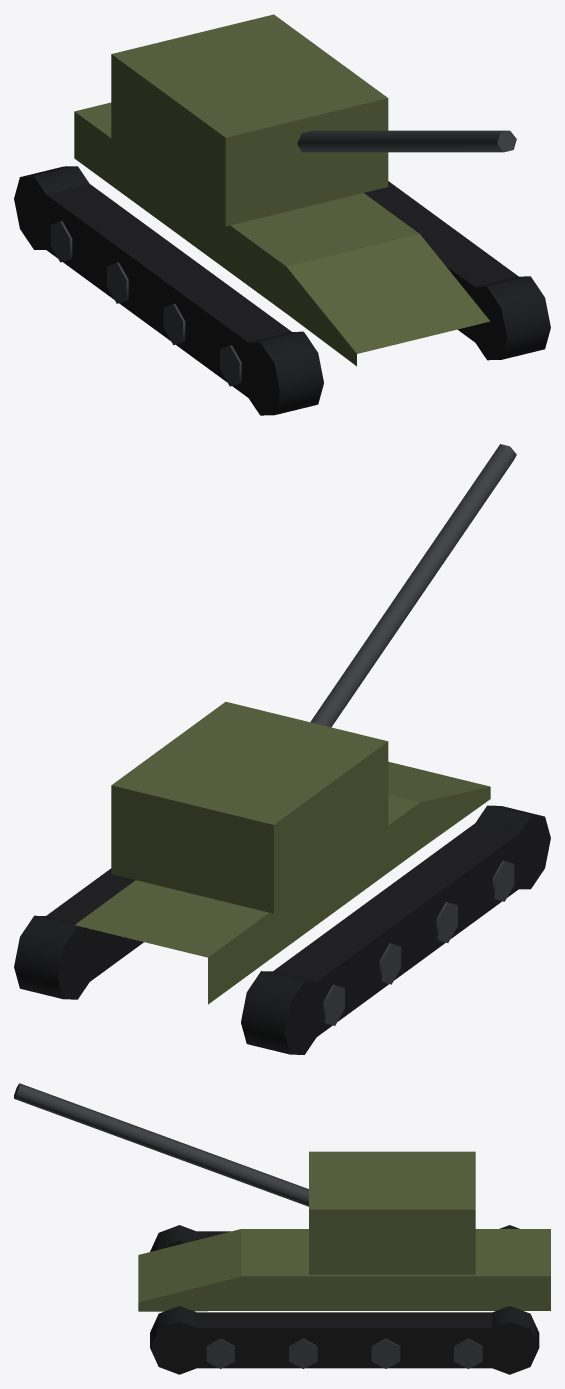
File: veh_ground_sp_artillery_a06.glb
3 views of the same model, one above another, from view 1: azimuth 30°, elevation 25°; view 2: azimuth 150°, elevation 25°; view 3: azimuth 270°, elevation 25° (orthographic). The views are drawn at different scales.
Parts seen in each view (by area): view 1: turret, body, track_r, track_l; view 2: turret, track_r, body, track_l; view 3: turret, body, track_l, track_r.
Part boxes in pixels (bbox=[...]): turret: bbox=[111, 14, 516, 226]; body: bbox=[74, 102, 490, 366]; track_r: bbox=[14, 166, 323, 415]; track_l: bbox=[364, 181, 550, 360]; turret: bbox=[111, 444, 516, 913]; track_r: bbox=[241, 805, 550, 1054]; body: bbox=[75, 761, 490, 1004]; track_l: bbox=[14, 868, 143, 999]; turret: bbox=[14, 1083, 475, 1274]; body: bbox=[138, 1229, 550, 1311]; track_l: bbox=[150, 1306, 539, 1374]; track_r: bbox=[150, 1225, 519, 1251].
Size of what is drawn, in the model's own units: 3.89 by 4.47 by 9.01.
